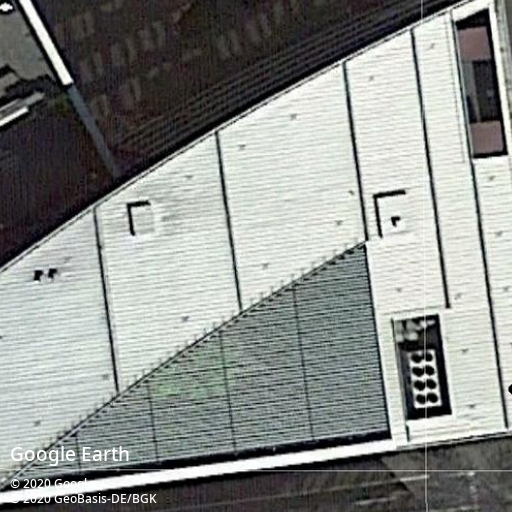Chiller: (407, 349, 442, 408)
